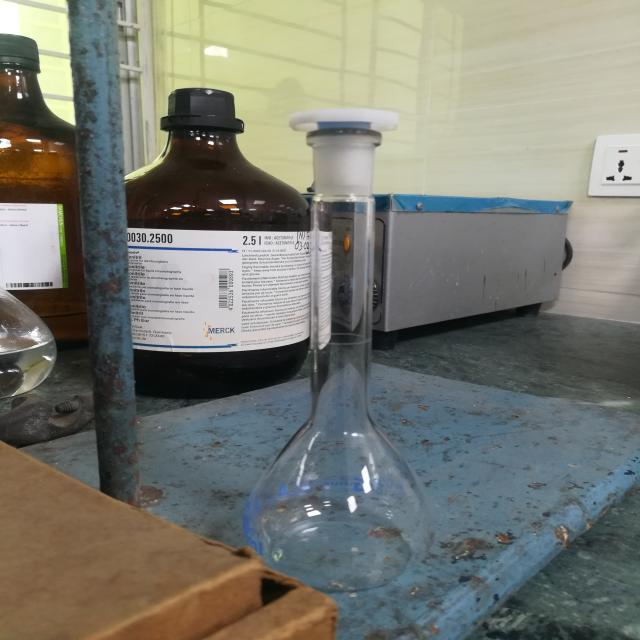Volumetric_Flask: (237, 86, 451, 604)
